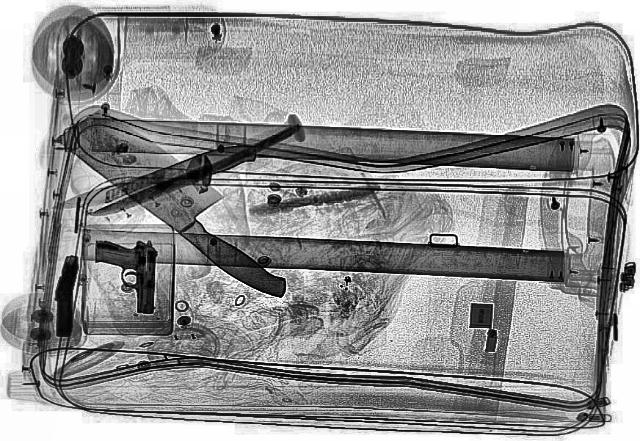Gun: (88, 238, 158, 314), (50, 256, 80, 336)
Knife: (41, 106, 326, 302), (84, 124, 308, 220), (46, 138, 264, 216)
